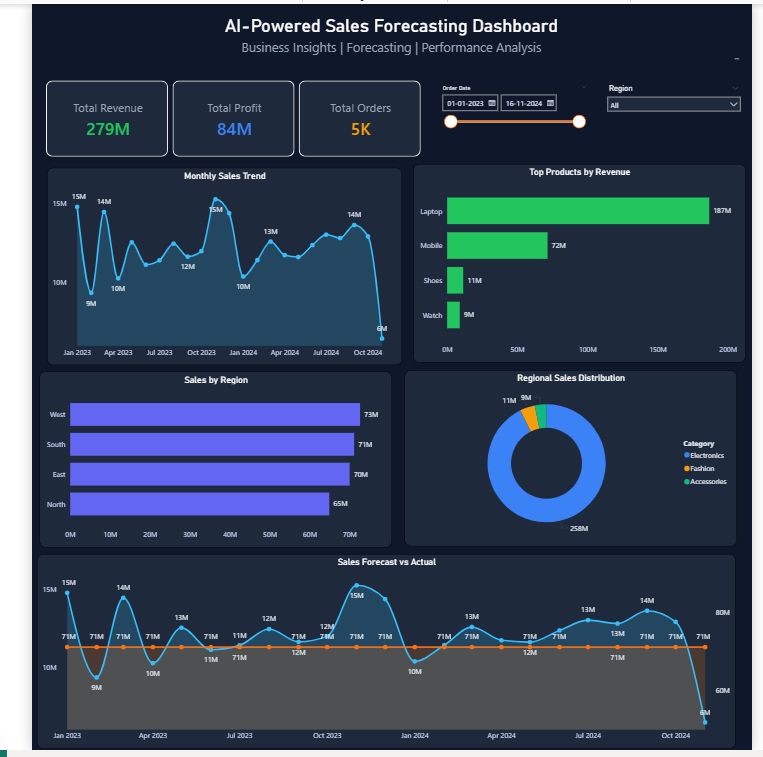

Layout of this report page (visuals, bound fields, positions):
{"tool":"powerbi","page":{"name":"Page 1","canvas":[1350,1400],"ordinal":0},"visuals":[{"type":"textbox","title":"AI-Powered Sales Forecasting Dashboard","box":[7.7,15.4,1331.5,98.3],"z":0},{"type":"cardVisual","fields":{"Data":["forecast.Total Revenue","forecast.Total Profit","forecast.Total Orders"]},"box":[9.6,127.2,738,177.3],"z":1000},{"type":"lineChart","title":"Monthly Sales Trend","fields":{"Y":["forecast.Total Revenue"],"Category":["clean_sales_data.Order_Date.Variation.Date Hierarchy.Year","clean_sales_data.Order_Date.Variation.Date Hierarchy.Month"]},"box":[28.2,307.3,666.2,370.6],"z":2000},{"type":"clusteredBarChart","title":"Sales by Region","fields":{"Y":["forecast.Total Revenue"],"Category":["clean_sales_data.Region"]},"box":[14.1,689.7,661.5,330.8],"z":3000},{"type":"clusteredBarChart","title":"Top Products by Revenue","fields":{"Y":["forecast.Total Revenue"],"Category":["clean_sales_data.Product"]},"box":[715.5,300.3,624,373],"z":3001},{"type":"donutChart","title":"Regional Sales Distribution","fields":{"Y":["forecast.Total Revenue"],"Category":["clean_sales_data.Category"]},"box":[699.1,687.3,624,330.8],"z":3002},{"type":"lineChart","title":"Sales Forecast vs Actual","fields":{"Y":["forecast.Total Revenue"],"Category":["clean_sales_data.Order_Date.Variation.Date Hierarchy.Year","clean_sales_data.Order_Date.Variation.Date Hierarchy.Month"],"Y2":["Sum(forecast.Forecast_Revenue)"]},"box":[9.4,1032.2,1311.3,366],"z":3003},{"type":"slicer","fields":{"Values":["clean_sales_data.Order_Date"]},"box":[757.7,145.4,295.6,129],"z":3004},{"type":"slicer","fields":{"Values":["clean_sales_data.Region"]},"box":[1069.7,145.4,269.8,96.2],"z":3005}]}

Visuals, with their boxes on the page's 1350x1400 design canvas (x1, y1, x2, y2). These are canvas units, not pixel positions in the 763x757 screenshot, which may show the page scaled, cropped or inside an application window:
"AI-Powered Sales Forecasting Dashboard" textbox: left=8, top=15, right=1339, bottom=114
cardVisual - forecast.Total Revenue x forecast.Total Profit: left=10, top=127, right=748, bottom=304
"Monthly Sales Trend" lineChart: left=28, top=307, right=694, bottom=678
"Sales by Region" clusteredBarChart: left=14, top=690, right=676, bottom=1020
"Top Products by Revenue" clusteredBarChart: left=716, top=300, right=1340, bottom=673
"Regional Sales Distribution" donutChart: left=699, top=687, right=1323, bottom=1018
"Sales Forecast vs Actual" lineChart: left=9, top=1032, right=1321, bottom=1398
slicer - clean_sales_data.Order_Date: left=758, top=145, right=1053, bottom=274
slicer - clean_sales_data.Region: left=1070, top=145, right=1340, bottom=242
